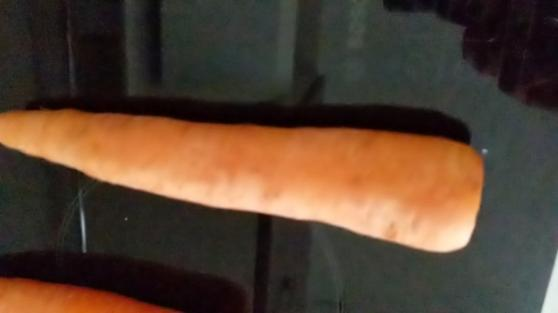carrot: (2, 102, 485, 256)
